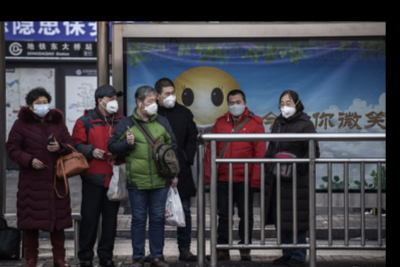with_mask: (31, 99, 50, 117), (279, 99, 296, 119), (228, 98, 245, 117), (142, 97, 158, 117), (160, 89, 176, 108), (103, 96, 119, 114)
